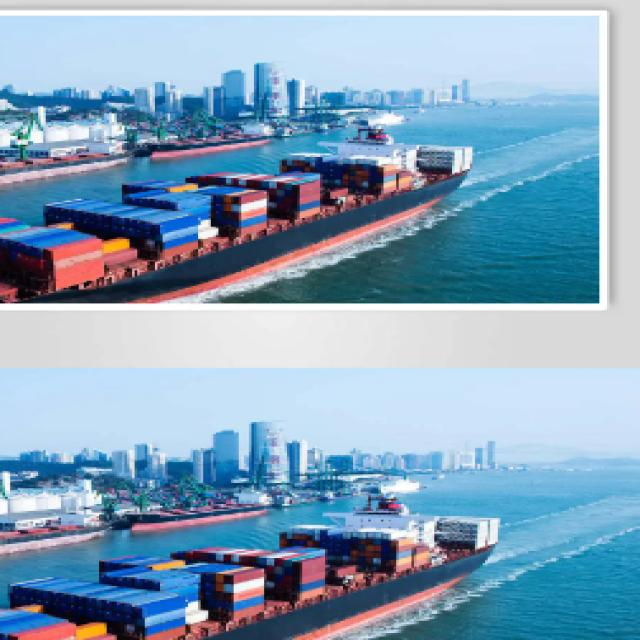cargoship: (16, 82, 451, 298), (18, 489, 503, 631)
